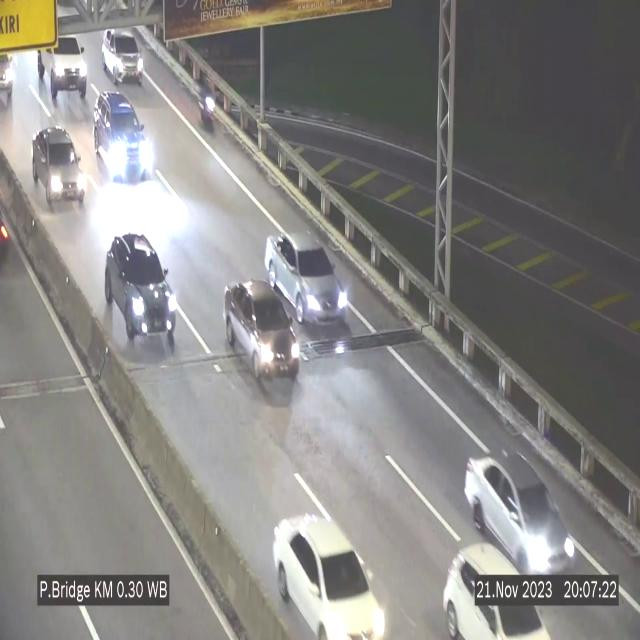Car: (276, 508, 392, 640), (466, 443, 578, 573), (432, 530, 551, 640), (102, 231, 182, 351), (224, 278, 299, 392), (264, 232, 350, 328), (94, 89, 154, 180), (32, 127, 88, 209), (38, 33, 90, 98), (102, 29, 143, 84)
Motorcycle: (199, 71, 217, 131)
